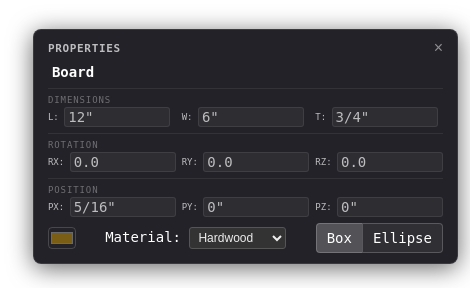
it: PartPanel › ArrowUp on Position X from non-binary-fraction starting value snaps to nearest 1/16"
The image size is (470, 288).
Click the field named "position x" at (123, 207), box [70, 197, 176, 217]
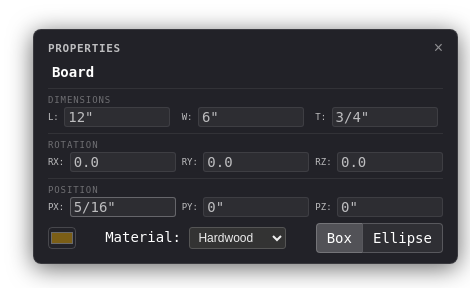
Press Arrowup Arrowup Arrowup Arrowup {Arr
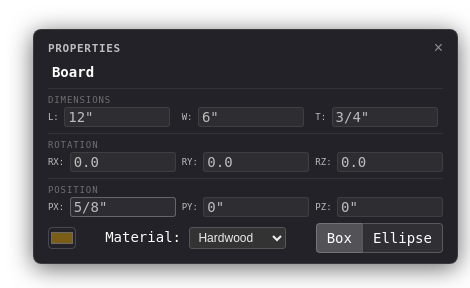
Expected: the field named "position x" holds "5/8\"", [70, 197, 176, 217]
